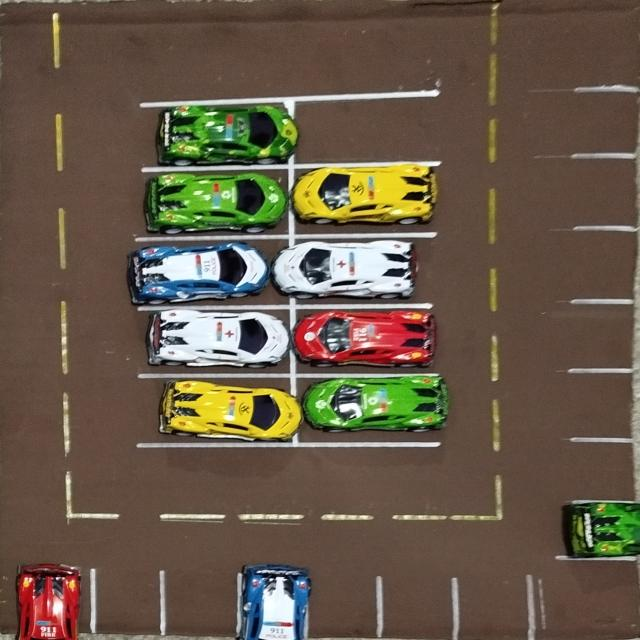libre: (290, 97, 438, 159), (89, 565, 163, 640), (164, 563, 236, 640), (377, 571, 455, 640), (572, 225, 640, 301), (572, 153, 640, 228), (452, 575, 530, 640), (312, 568, 379, 640), (572, 370, 640, 440), (575, 297, 640, 370), (575, 86, 640, 156), (571, 439, 640, 502)
no_estacionarse: (536, 560, 640, 640)
ocupado: (132, 236, 291, 306), (135, 166, 293, 233), (287, 163, 436, 234), (138, 307, 294, 374), (138, 377, 296, 443), (296, 372, 436, 443), (291, 233, 434, 301), (137, 102, 287, 166), (295, 305, 437, 371), (0, 558, 90, 640), (238, 564, 312, 640), (563, 502, 640, 558)
